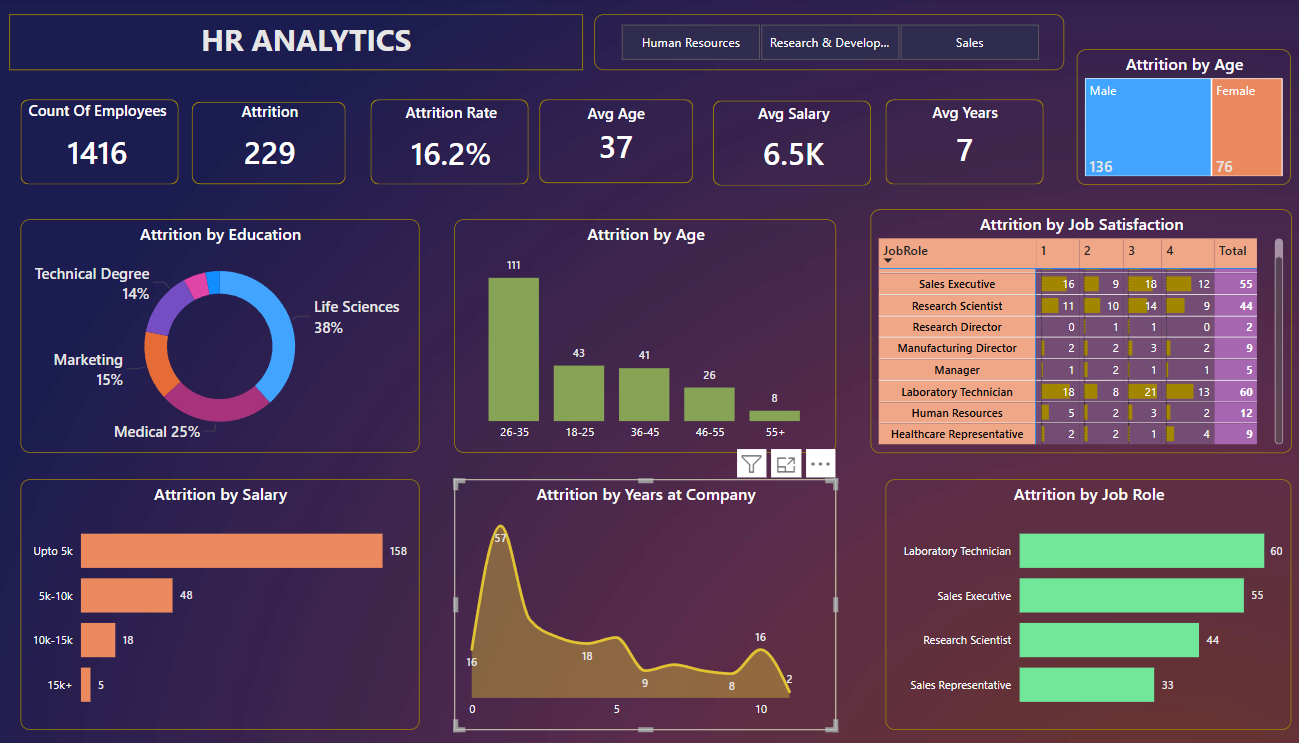

The dashboard page shown, as its layout file describes it:
{"tool":"powerbi","page":{"name":"Page 1","canvas":[1400,800],"ordinal":0},"visuals":[{"type":"shape","box":[12,18,615.4,60],"z":0},{"type":"textbox","box":[193.6,18,274.7,57],"z":1000},{"type":"shape","box":[24,108.1,169.6,91.6],"z":2000},{"type":"card","title":"Count Of Employees","fields":{"Values":["CountNonNull(HR_Analytics.EmpID)"]},"box":[24,108.1,165.1,91.6],"z":3000},{"type":"shape","box":[207.1,111.1,165.1,88.6],"z":4000},{"type":"card","title":"Attrition","fields":{"Values":["Sum(HR_Analytics.Attrition)"]},"box":[210.1,109.6,162.1,90.1],"z":5000},{"type":"shape","box":[399.2,108.1,169.6,91.6],"z":6000},{"type":"card","title":"Attrition Rate","fields":{"Values":["HR_Analytics.Attrition Rate"]},"box":[403.7,111.1,165.1,90.1],"z":7000},{"type":"shape","box":[766.9,109.6,169.6,91.6],"z":8000},{"type":"card","title":"Avg Salary","fields":{"Values":["Avg(HR_Analytics.MonthlyIncome)"]},"box":[771.4,112.6,165.1,85.5],"z":9000},{"type":"card","title":"Avg Years","fields":{"Values":["Avg(HR_Analytics.YearsAtCompany)"]},"box":[960.6,111.1,151.6,81],"z":10000},{"type":"shape","box":[951.5,108.1,169.6,91.6],"z":11000},{"type":"donutChart","title":"Attrition by Education","fields":{"Category":["HR_Analytics.EducationField"],"Y":["Sum(HR_Analytics.Attrition)"]},"box":[24,237.1,427.7,250.6],"z":14000},{"type":"card","title":"Avg Age","fields":{"Values":["Avg(HR_Analytics.Age)"]},"box":[594.3,112.6,138.1,70.5],"z":16000},{"type":"shape","box":[580.8,108.1,165.1,90.1],"z":17000},{"type":"columnChart","title":"Attrition by Age","fields":{"Category":["HR_Analytics.AgeGroup"],"Y":["Sum(HR_Analytics.Attrition)"]},"box":[489.3,237.1,409.7,250.6],"z":18000},{"type":"pivotTable","title":"Attrition by Job Satisfaction","fields":{"Values":["Sum(HR_Analytics.Attrition)"],"Columns":["HR_Analytics.JobSatisfaction"],"Rows":["HR_Analytics.JobRole"]},"box":[935.7,226.5,451.7,261.4],"z":19000},{"type":"barChart","title":"Attrition by Salary","fields":{"Category":["HR_Analytics.SalarySlab"],"Y":["Sum(HR_Analytics.Attrition)"]},"box":[24,516.3,427.7,268.7],"z":19002},{"type":"barChart","title":"Attrition by Job Role","fields":{"Y":["Sum(HR_Analytics.Attrition)"],"Category":["HR_Analytics.JobRole"]},"box":[951.5,516.3,435.3,268.7],"z":19003},{"type":"areaChart","title":"Attrition by Years  at Company","fields":{"Category":["HR_Analytics.YearsAtCompany"],"Y":["Sum(HR_Analytics.Attrition)"]},"box":[489.3,516.3,409.7,268.7],"z":19004},{"type":"treemap","title":"Attrition by Age","fields":{"Group":["HR_Analytics.Gender"],"Values":["Sum(HR_Analytics.Attrition)"]},"box":[1157.2,55.5,229.6,145.6],"z":19005},{"type":"slicer","fields":{"Values":["HR_Analytics.Department"]},"box":[639.4,18,504.3,60],"z":19006}]}

Visuals, with their boxes in screenshot pixels (x1, y1, x2, y2), scaled from the page's 1400x800 canvas onto the 1299x743 screenshot:
shape: left=11, top=17, right=582, bottom=72
textbox: left=180, top=17, right=435, bottom=70
shape: left=22, top=100, right=180, bottom=185
"Count Of Employees" card: left=22, top=100, right=175, bottom=185
shape: left=192, top=103, right=345, bottom=185
"Attrition" card: left=195, top=102, right=345, bottom=185
shape: left=370, top=100, right=528, bottom=185
"Attrition Rate" card: left=375, top=103, right=528, bottom=187
shape: left=712, top=102, right=869, bottom=187
"Avg Salary" card: left=716, top=105, right=869, bottom=184
"Avg Years" card: left=891, top=103, right=1032, bottom=178
shape: left=883, top=100, right=1040, bottom=185
"Attrition by Education" donutChart: left=22, top=220, right=419, bottom=453
"Avg Age" card: left=551, top=105, right=680, bottom=170
shape: left=539, top=100, right=692, bottom=184
"Attrition by Age" columnChart: left=454, top=220, right=834, bottom=453
"Attrition by Job Satisfaction" pivotTable: left=868, top=210, right=1287, bottom=453
"Attrition by Salary" barChart: left=22, top=480, right=419, bottom=729
"Attrition by Job Role" barChart: left=883, top=480, right=1287, bottom=729
"Attrition by Years  at Company" areaChart: left=454, top=480, right=834, bottom=729
"Attrition by Age" treemap: left=1074, top=52, right=1287, bottom=187
slicer - HR_Analytics.Department: left=593, top=17, right=1061, bottom=72
